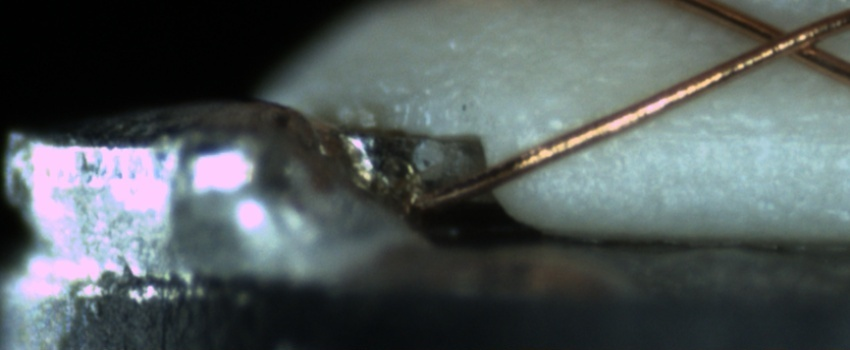CL: (735, 12, 839, 70)
DL: (610, 100, 850, 164)
